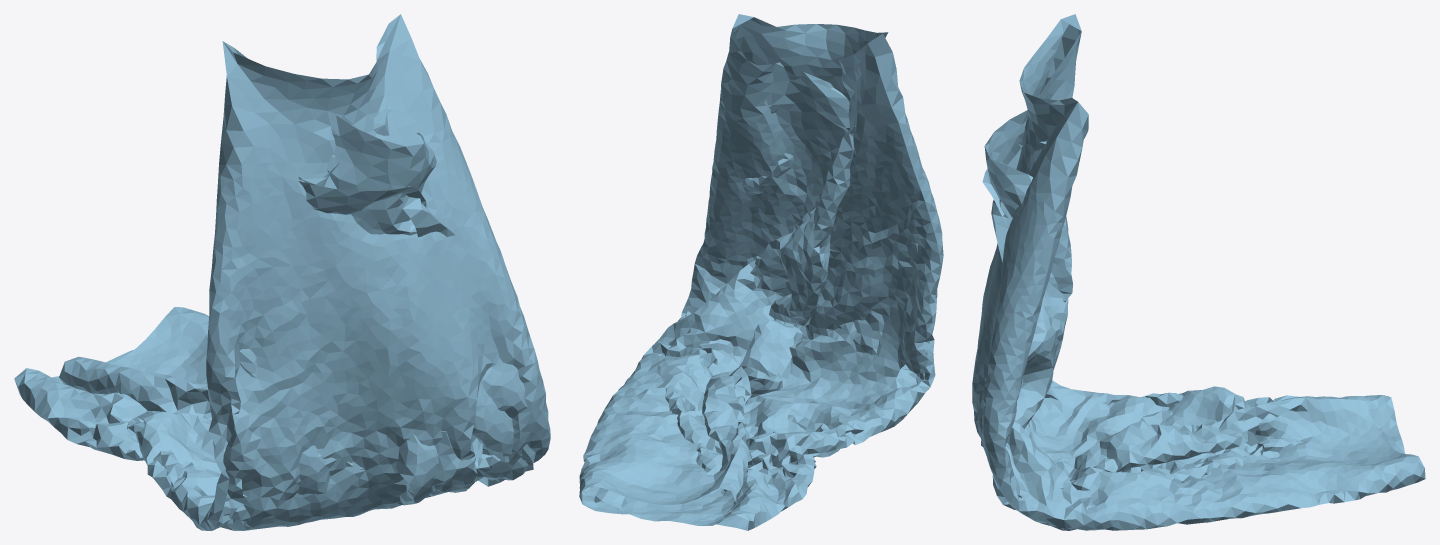
File: frame_11.glb
3 views of the same model, side by side, from view 1: azimuth 30°, elevation 25°; view 2: azimuth 150°, elevation 25°; view 3: azimuth 270°, elevation 25° (orthographic). The views are drawn at different scales.
Visible parts, largest first — view 1: frame_11.obj; view 2: frame_11.obj; view 3: frame_11.obj.
Part boxes in pixels (x1,y1,x2,y2): frame_11.obj: (14,14,550,530); frame_11.obj: (579,14,943,530); frame_11.obj: (972,14,1425,530).
Bounding box in the file's own units: 0.8229 × 1.15 × 1.15.
